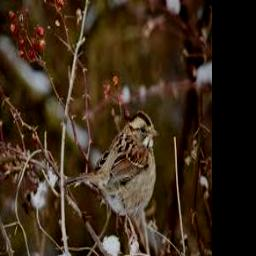Sparrow: (64, 111, 160, 231)
